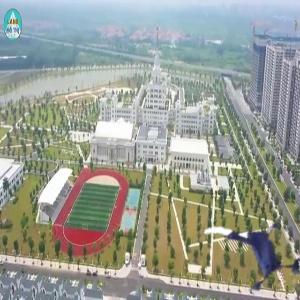drone: (204, 206, 299, 300)
